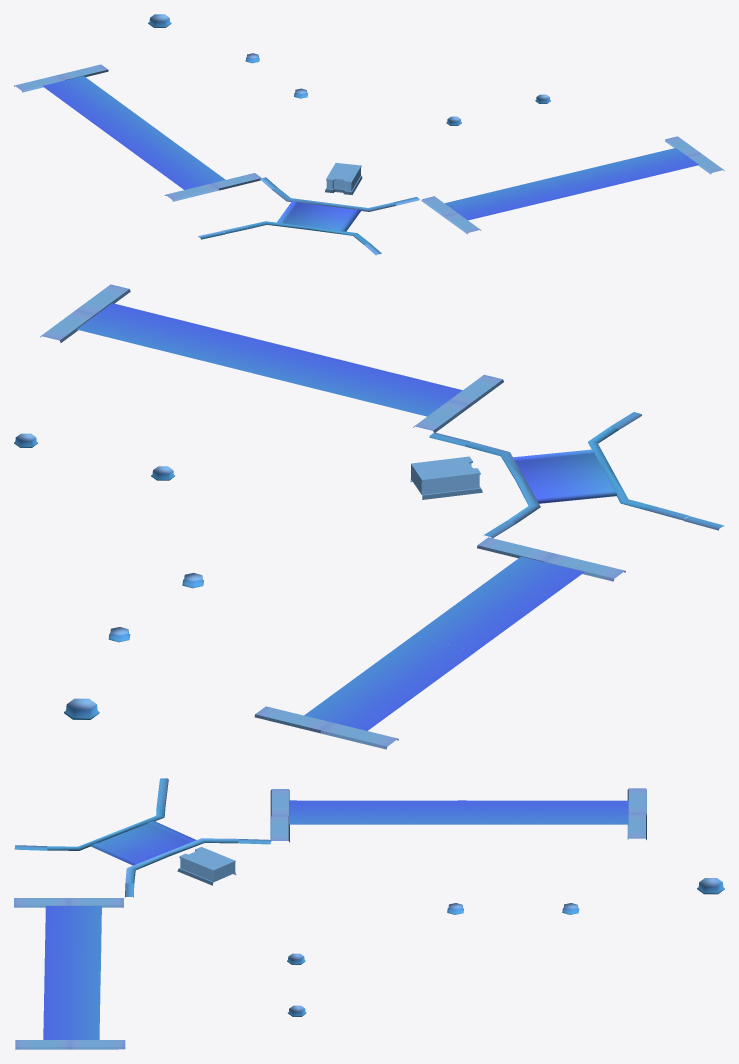
Rendered from Area_07_3.FBX.
3 renders of one model, top to bottom at view 1: azimuth 30°, elevation 25°; view 2: azimuth 150°, elevation 25°; view 3: azimuth 270°, elevation 25°, orthographic. The views are drawn at different scales.
Visible parts, largest first — view 1: Area_07_3; view 2: Area_07_3; view 3: Area_07_3.
Boxes of the visible parts, x1=… form: Area_07_3: x1=14, y1=14, x2=724, y2=255; Area_07_3: x1=14, y1=284, x2=724, y2=749; Area_07_3: x1=14, y1=778, x2=724, y2=1049.
Size of the model in its own units: 8680 by 252 by 9666.
